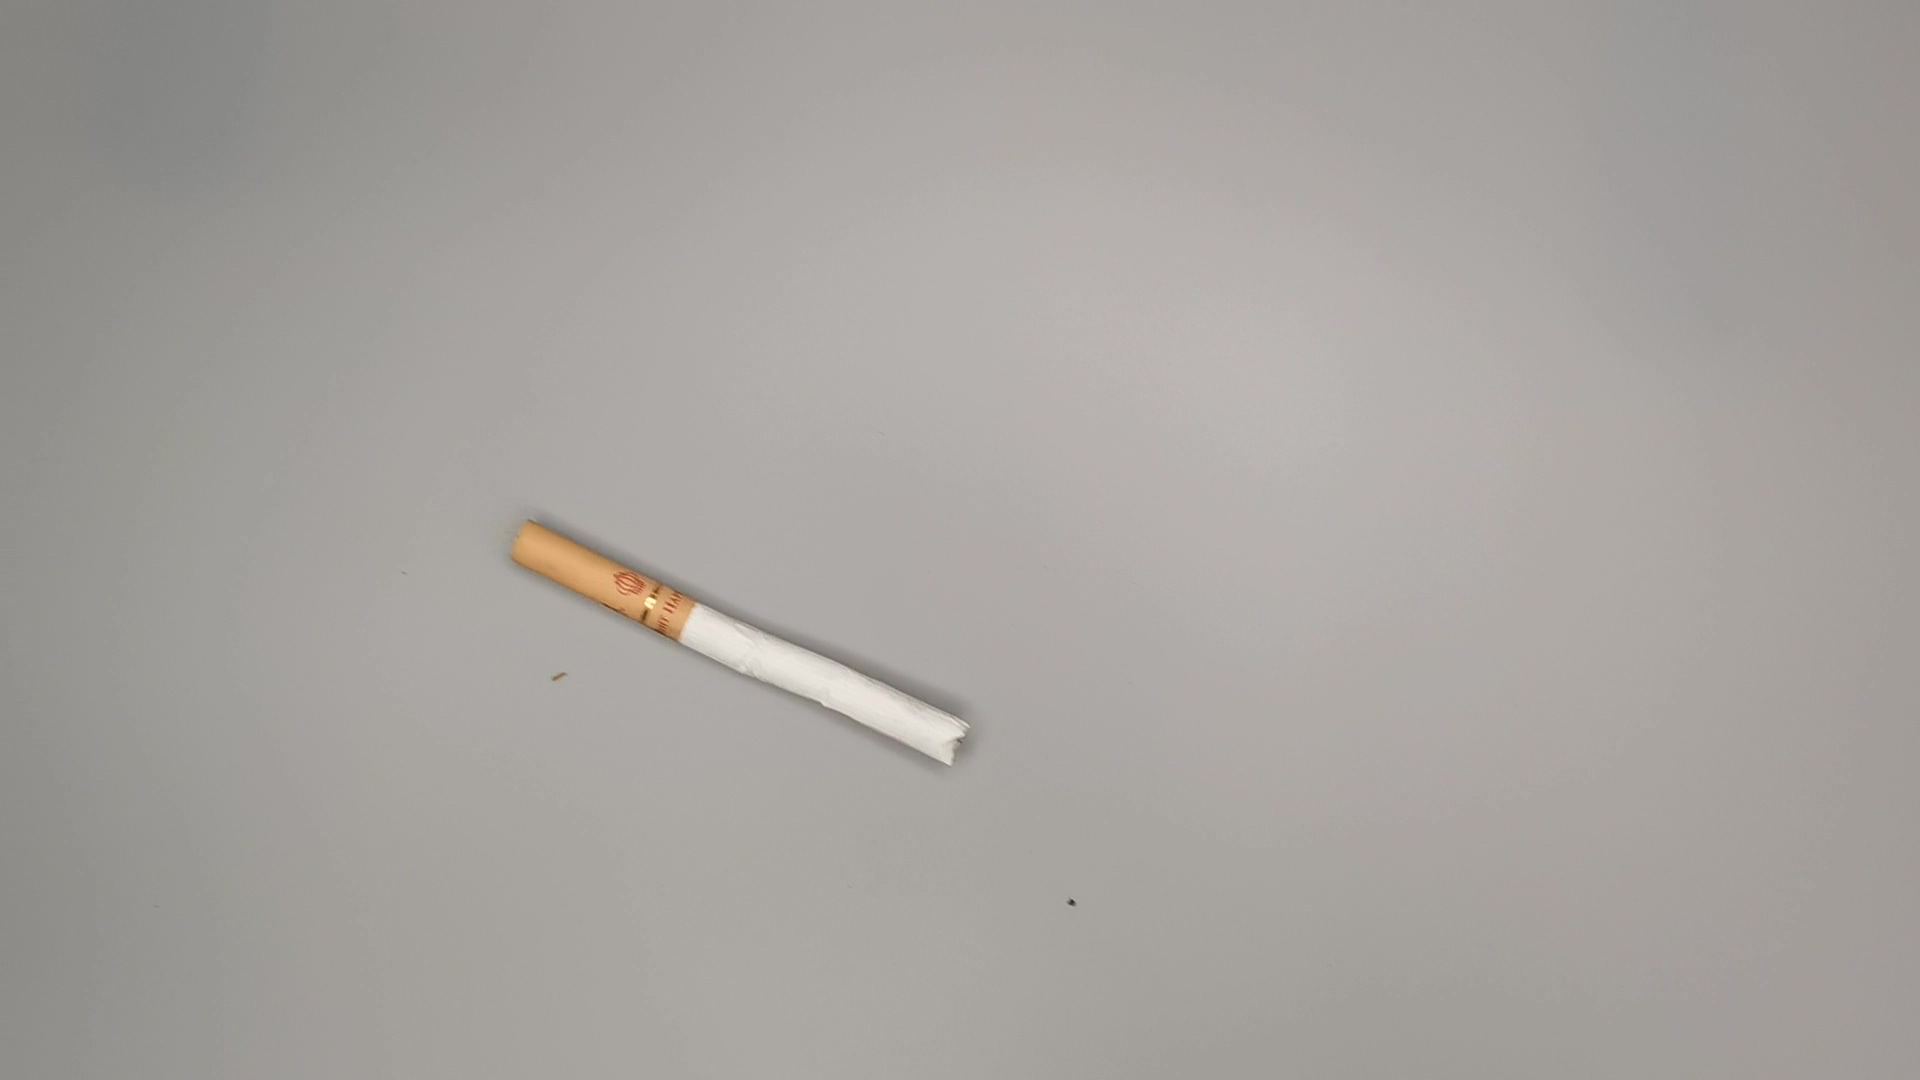cigarette: (508, 516, 986, 774)
